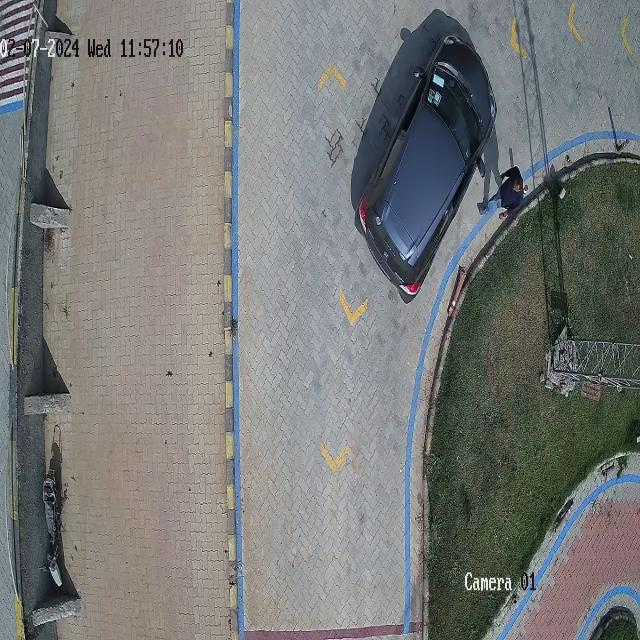car: (354, 35, 497, 307)
